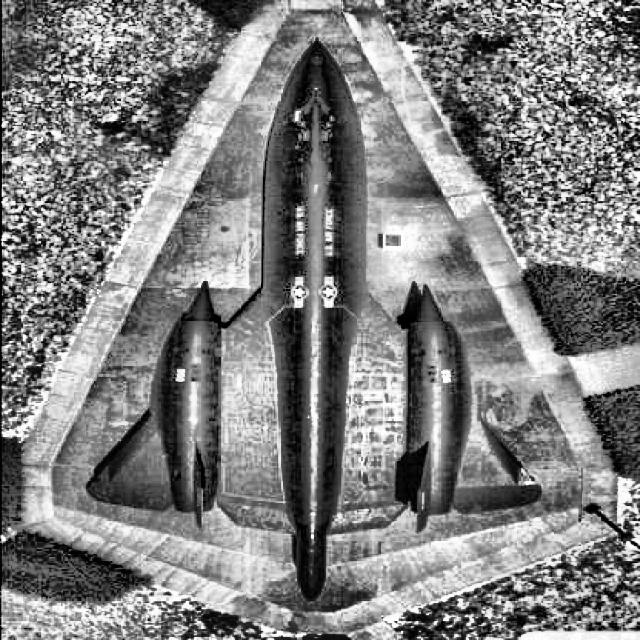SR71: (84, 36, 541, 601)
